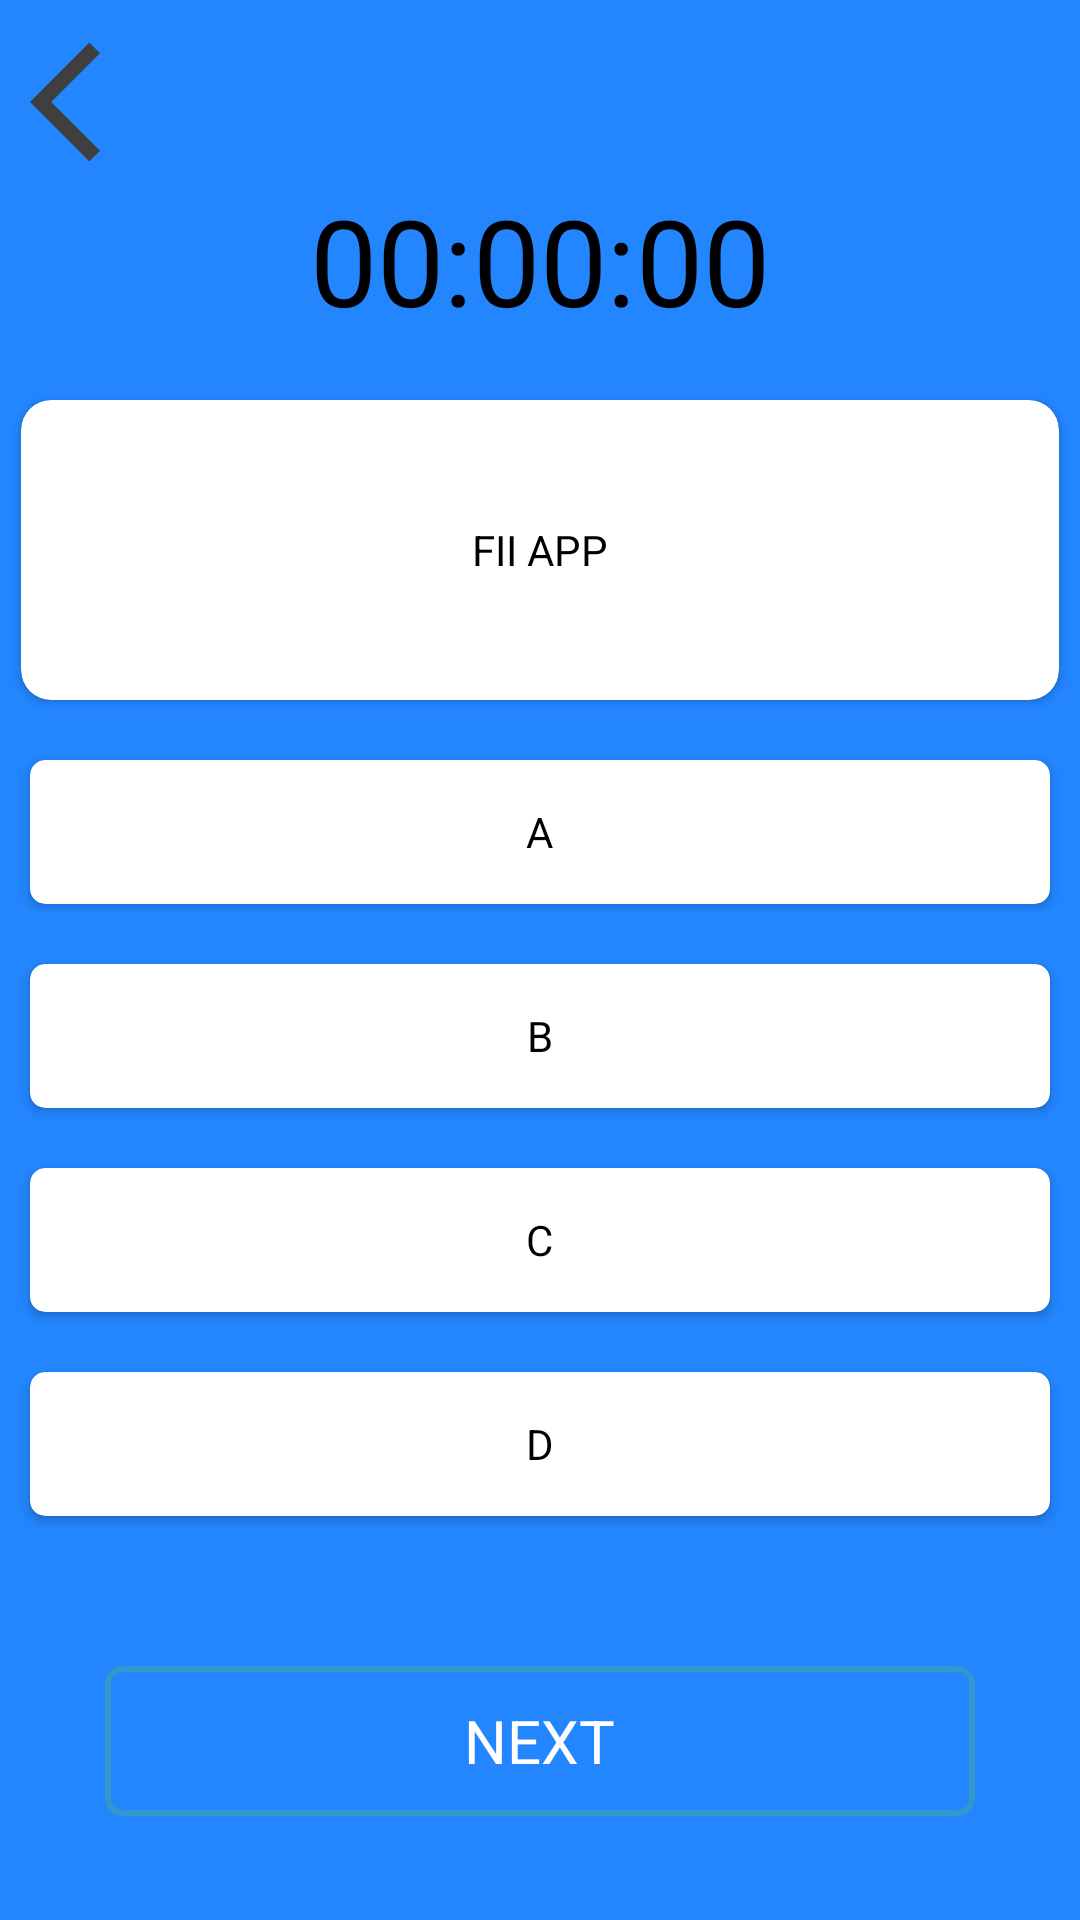

Point at icon controls on the screen. Image size 1080 × 1920, points as (x,y).
Back: (65,102)
